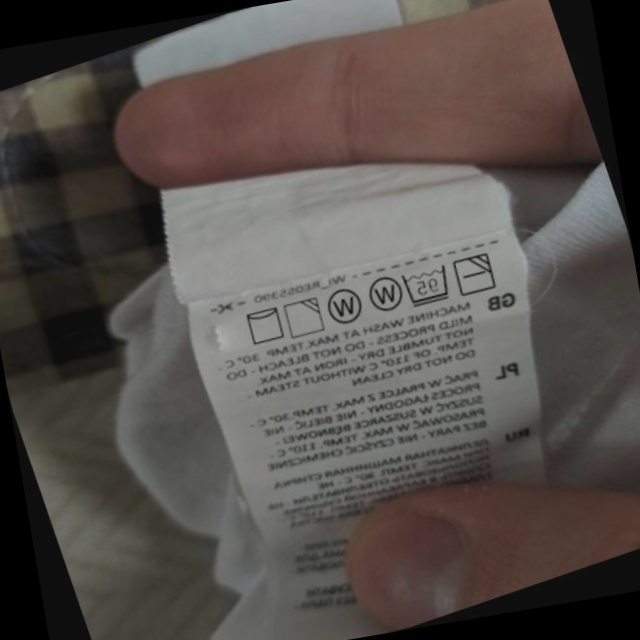95C: (395, 256, 459, 314)
dry_flat_in_shade: (447, 245, 503, 303)
line_dry: (236, 298, 292, 352)
shade_dry: (277, 290, 331, 345)
wet_clean: (318, 280, 371, 334), (358, 266, 410, 321)
